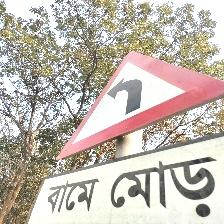Left-Turn: (36, 49, 224, 224)
